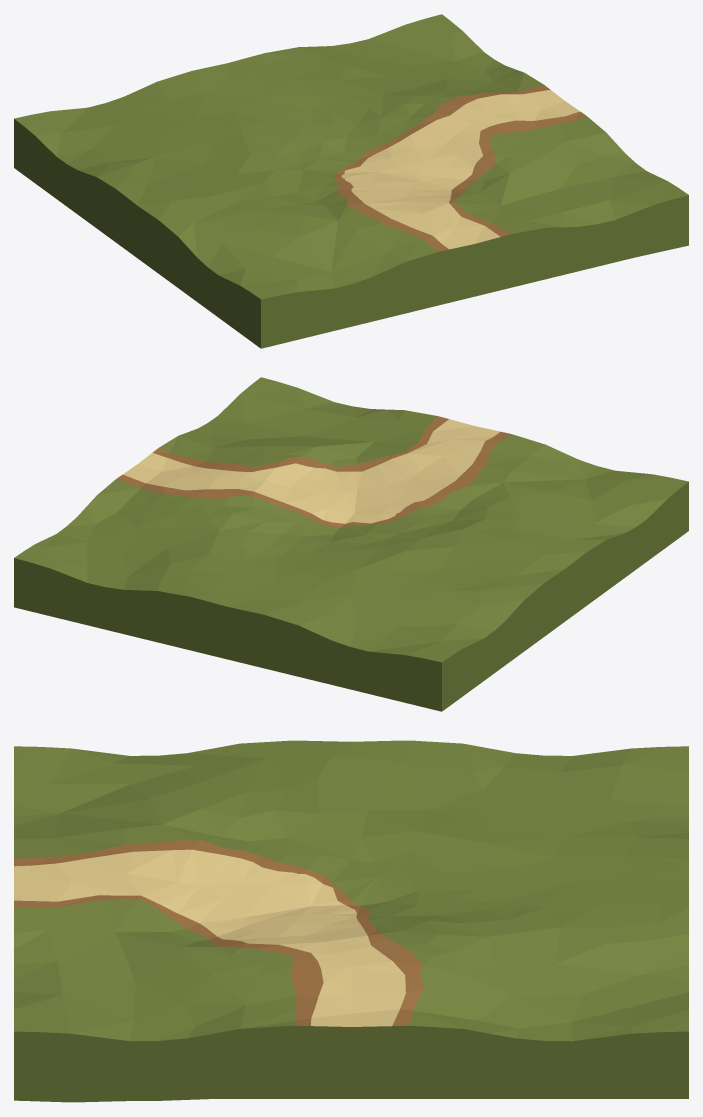
The model's file is Terrian_Road_Bend_Flat-01.fbx.
3 renders of one model, top to bottom at view 1: azimuth 30°, elevation 25°; view 2: azimuth 150°, elevation 25°; view 3: azimuth 270°, elevation 25°, orthographic. The views are drawn at different scales.
Visible parts, largest first — view 1: Terrian_Road_Bend_Flat-01; view 2: Terrian_Road_Bend_Flat-01; view 3: Terrian_Road_Bend_Flat-01.
Boxes of the visible parts, left/top/right/bottom form: Terrian_Road_Bend_Flat-01: left=14, top=14, right=688, bottom=348; Terrian_Road_Bend_Flat-01: left=14, top=377, right=688, bottom=711; Terrian_Road_Bend_Flat-01: left=14, top=740, right=688, bottom=1102.
Size of the model in its own units: 3600 by 502 by 3600.
Materials: 1 (1 with a texture image).
